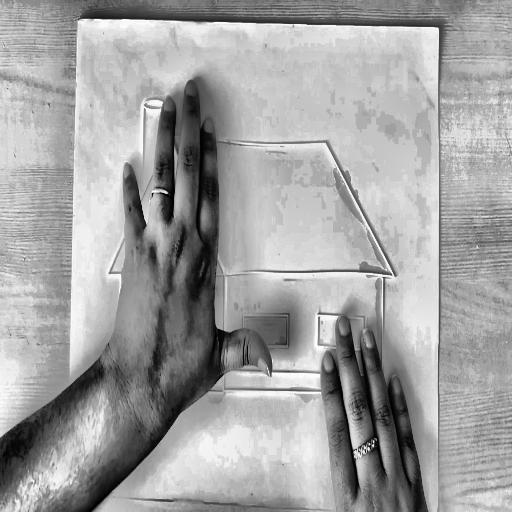bottom_left: (64, 489, 73, 504)
house: (102, 84, 408, 413)
top_left: (75, 14, 82, 28)
top_right: (434, 22, 443, 36)
